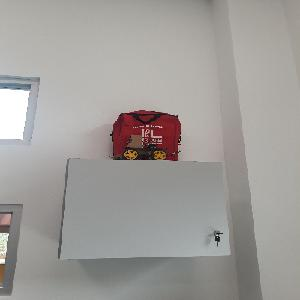Robot: (109, 134, 166, 160)
